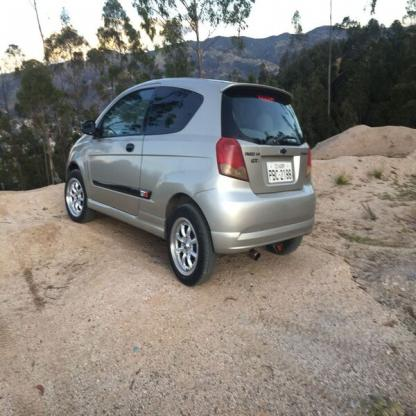Placa: (264, 158, 296, 185)
